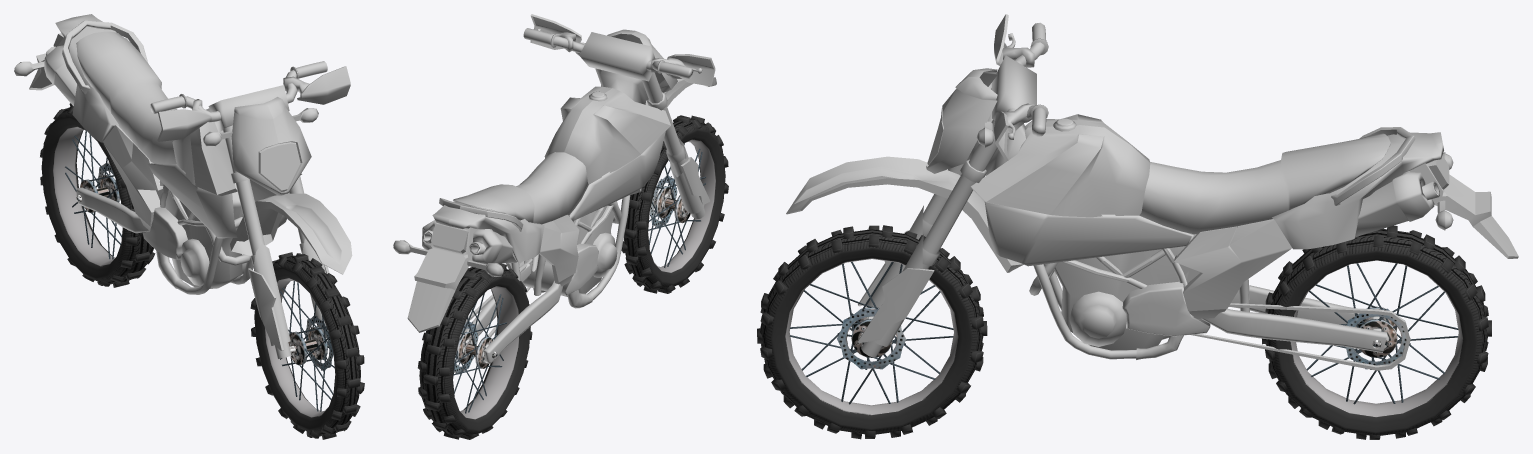
File: bike02.fbx
3 renders of one model, left to right at view 1: azimuth 30°, elevation 25°; view 2: azimuth 150°, elevation 25°; view 3: azimuth 270°, elevation 25°, orthographic. The views are drawn at different scales.
Visible parts, largest first — view 1: bike02_polySurface596, Tyre, Tyre1, polySurface579, polySurface572, polySurface604, polySurface547, polySurface594, polySurface564, polySurface568, polySurface559, polySurface593 (+7 smaller); view 2: bike02_polySurface596, Tyre1, Tyre, polySurface579, polySurface559, polySurface604, polySurface568, polySurface594, polySurface564, polySurface552, polySurface547, polySurface543 (+7 smaller); view 3: bike02_polySurface596, Tyre, Tyre1, polySurface579, polySurface572, polySurface551, polySurface569, polySurface550, polySurface549, polySurface575, polySurface565, polySurface585 (+4 smaller).
Boxes of the visible parts, left/top/right/bottom form: bike02_polySurface596: left=14, top=14, right=350, bottom=294; Tyre: left=250, top=252, right=364, bottom=439; Tyre1: left=40, top=103, right=155, bottom=287; polySurface579: left=76, top=31, right=177, bottom=164; polySurface572: left=230, top=193, right=352, bottom=274; polySurface604: left=103, top=125, right=163, bottom=230; polySurface547: left=159, top=180, right=241, bottom=288; polySurface594: left=142, top=207, right=187, bottom=259; polySurface564: left=231, top=172, right=291, bottom=358; polySurface568: left=76, top=187, right=149, bottom=233; polySurface559: left=208, top=85, right=289, bottom=132; polySurface593: left=248, top=268, right=283, bottom=350; bike02_polySurface596: left=393, top=14, right=715, bottom=332; Tyre1: left=417, top=263, right=532, bottom=439; Tyre: left=621, top=115, right=728, bottom=293; polySurface579: left=453, top=152, right=588, bottom=224; polySurface559: left=579, top=32, right=655, bottom=81; polySurface604: left=539, top=215, right=579, bottom=286; polySurface568: left=483, top=280, right=562, bottom=363; polySurface594: left=541, top=243, right=598, bottom=295; polySurface564: left=647, top=92, right=705, bottom=219; polySurface552: left=600, top=70, right=648, bottom=104; polySurface547: left=564, top=206, right=614, bottom=296; polySurface543: left=593, top=232, right=617, bottom=277; bike02_polySurface596: left=926, top=14, right=1518, bottom=359; Tyre: left=757, top=225, right=987, bottom=439; Tyre1: left=1262, top=225, right=1491, bottom=439; polySurface579: left=1139, top=133, right=1390, bottom=234; polySurface572: left=786, top=156, right=1023, bottom=272; polySurface551: left=1054, top=233, right=1196, bottom=350; polySurface569: left=1201, top=308, right=1386, bottom=352; polySurface550: left=1122, top=281, right=1210, bottom=336; polySurface549: left=1069, top=291, right=1126, bottom=346; polySurface575: left=858, top=268, right=934, bottom=342; polySurface565: left=861, top=159, right=987, bottom=357; polySurface585: left=1190, top=303, right=1410, bottom=370.
Size of the model in its own units: 10.25 by 15.73 by 29.61.
